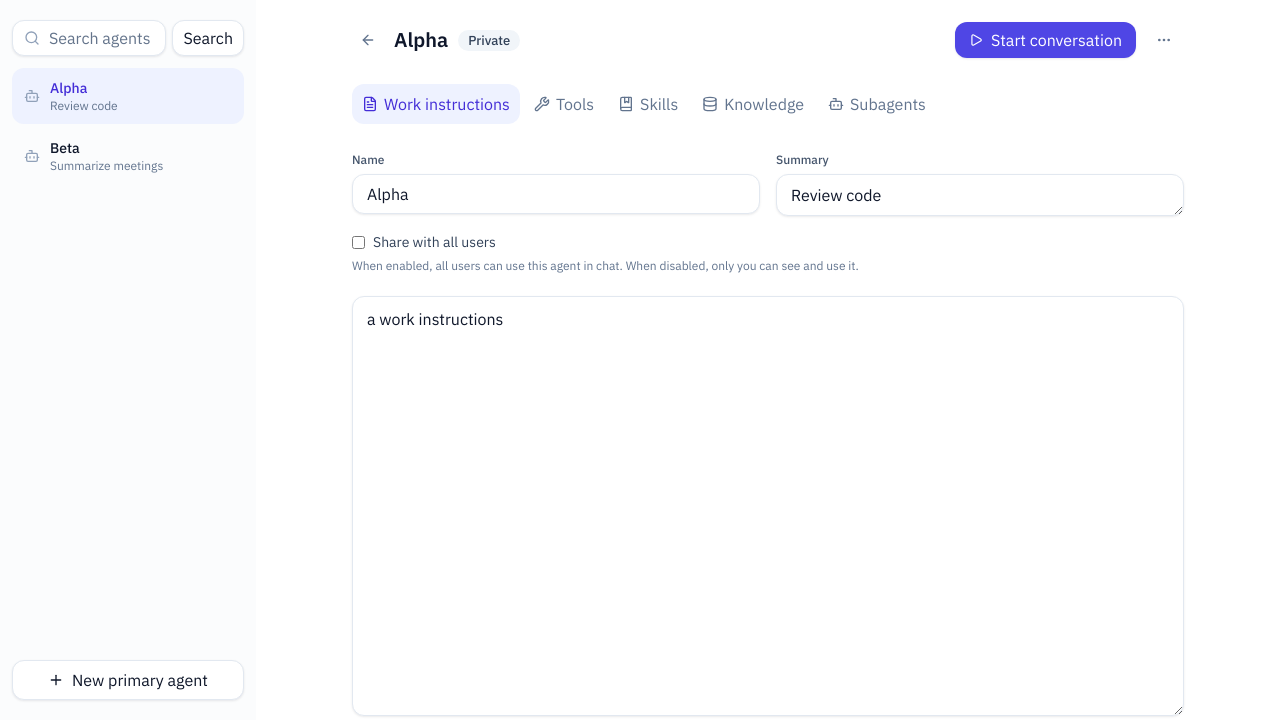
Test case: agent management split view › submits the same agent keyword again and preserves the unnamed draft label
Expected: the button "Beta Summarize meetings" is shown, [12,128,244,184]
In the field labelled "Search agents": (89, 38) [12,20,166,56], type "meetings"
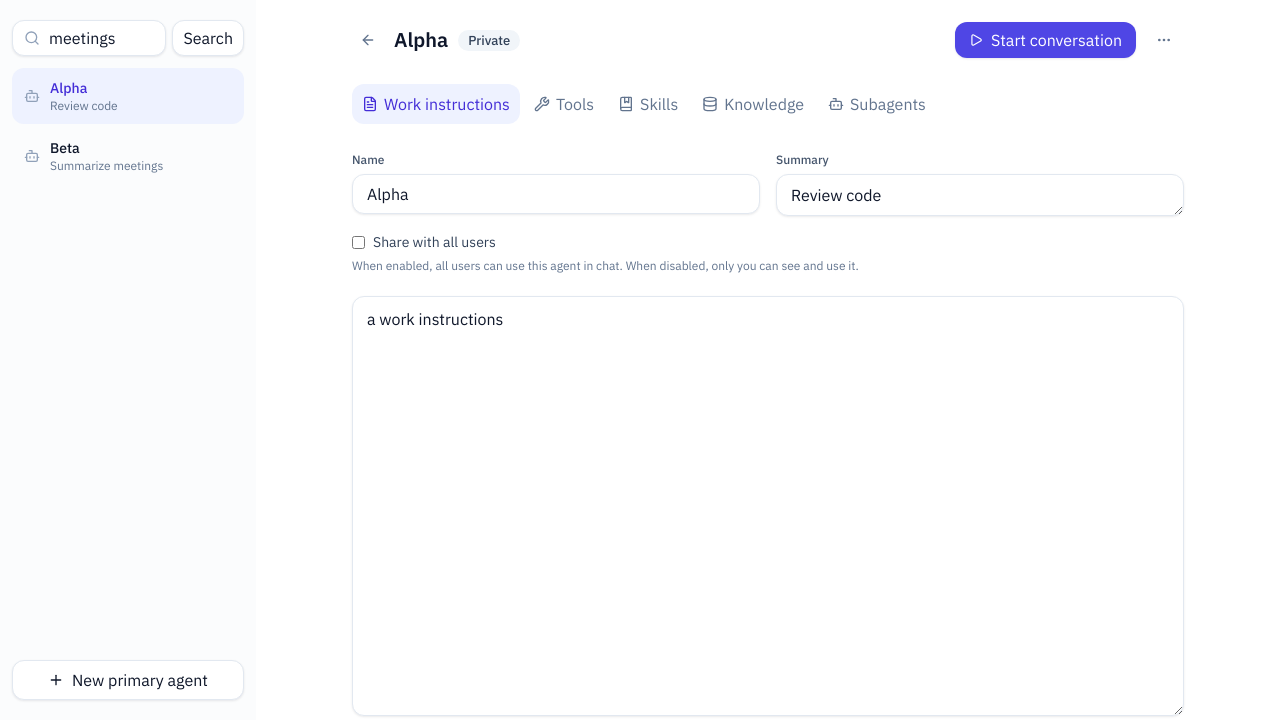
Press Enter in the field named "Search agents", box [12,20,166,56]
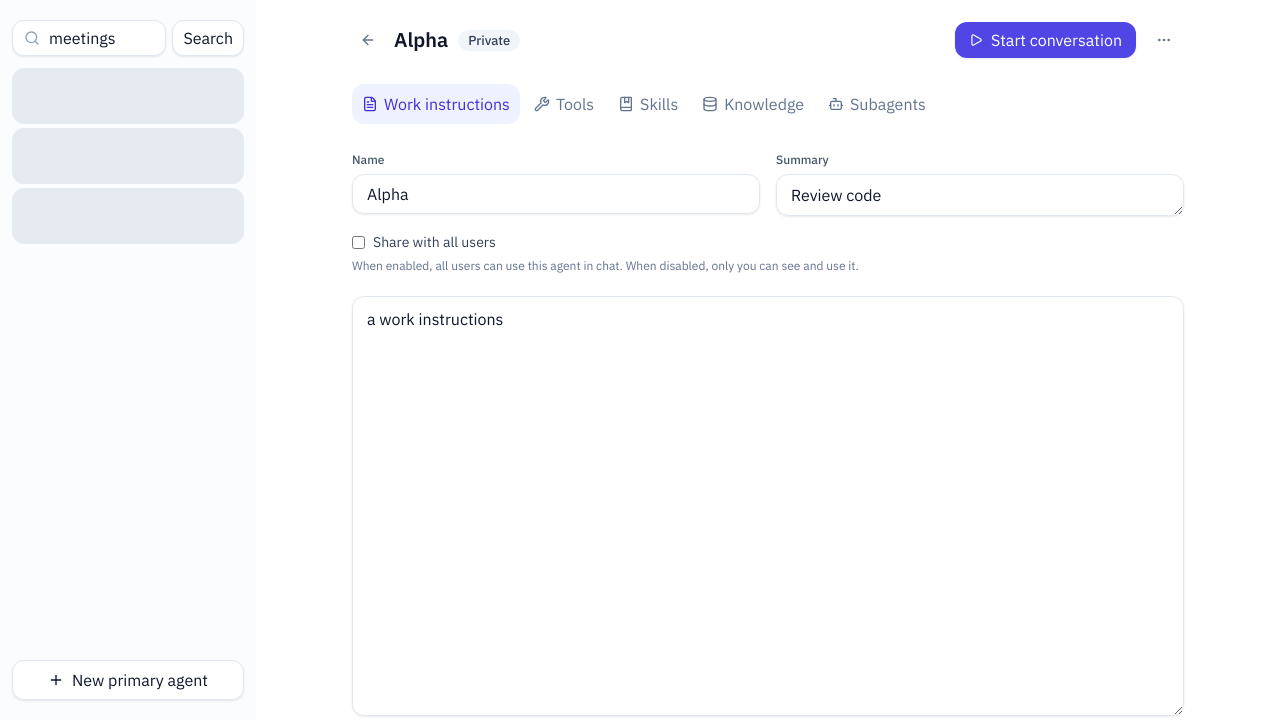
Press Enter in the field named "Search agents", box [12,20,166,56]
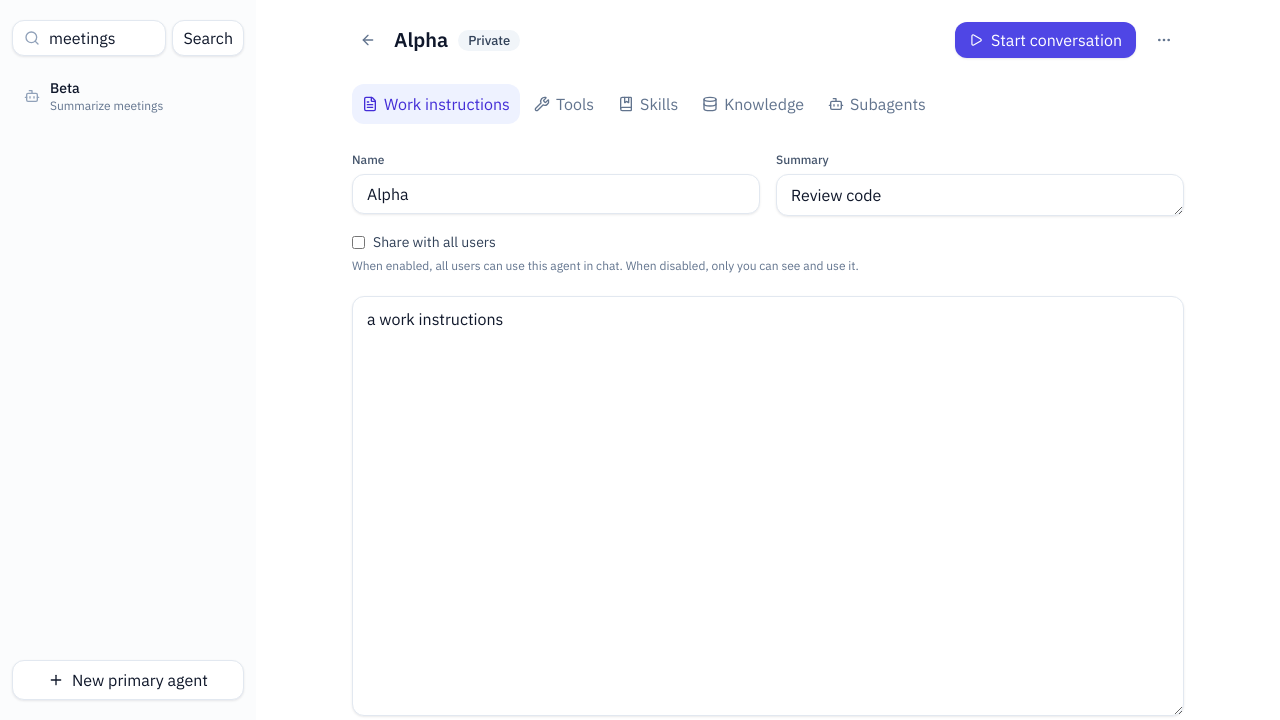
Clear the field named "Search agents": (89, 38) [12,20,166,56]
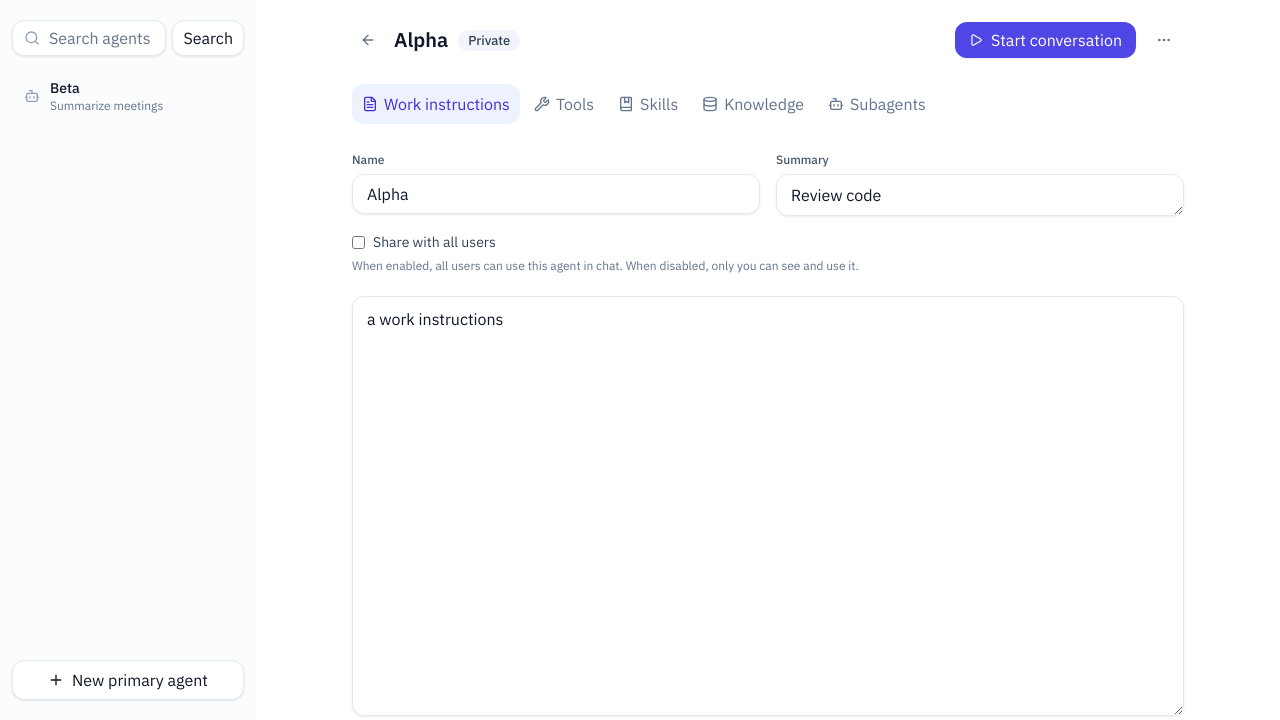
Press Enter in the field labelled "Search agents", box [12,20,166,56]
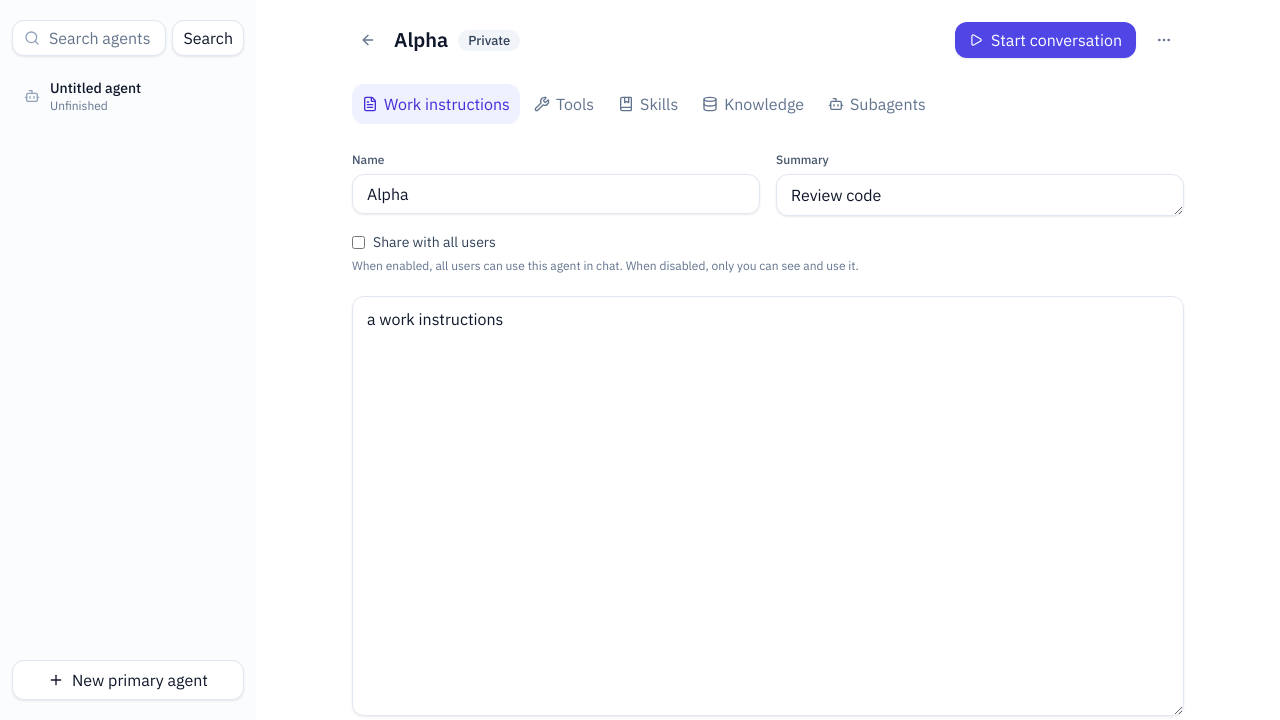
Now the button "Untitled agent Unfinished" is shown, box [12,68,244,124]
